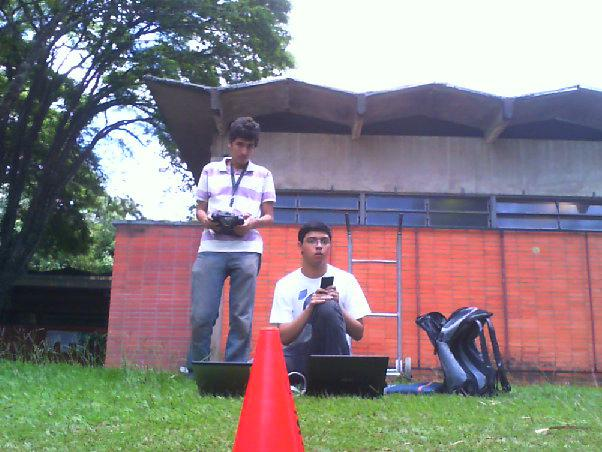0 cone: (228, 327, 310, 452)
